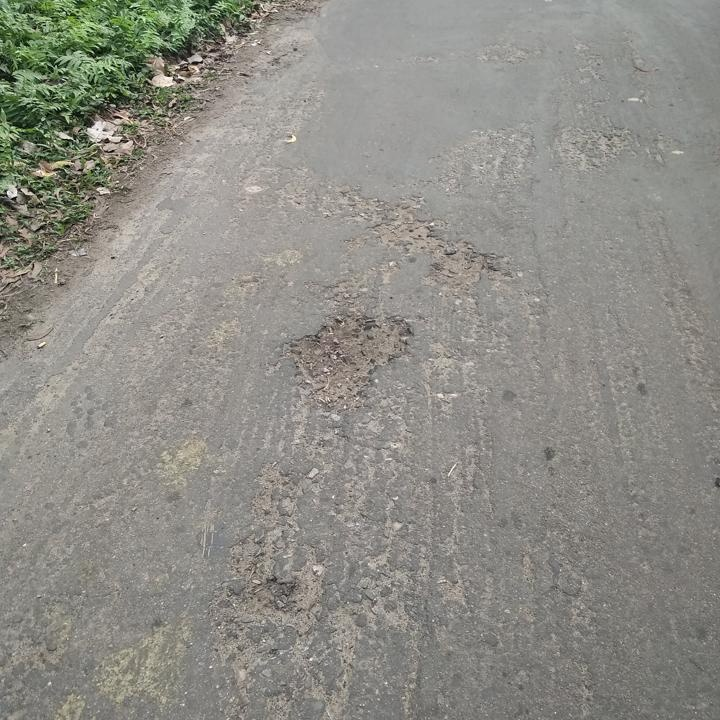pothole: (284, 303, 418, 407), (374, 200, 496, 287), (238, 576, 297, 620)
